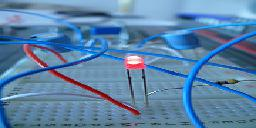LED: (123, 55, 152, 106)
